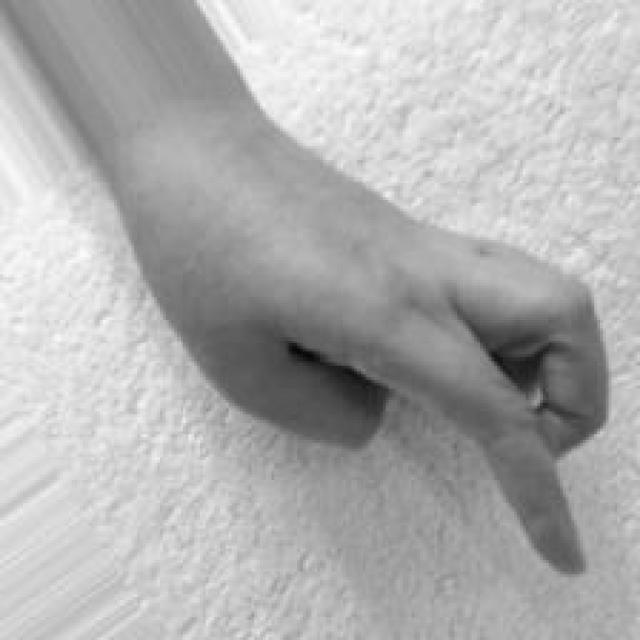P: (160, 118, 614, 589)
